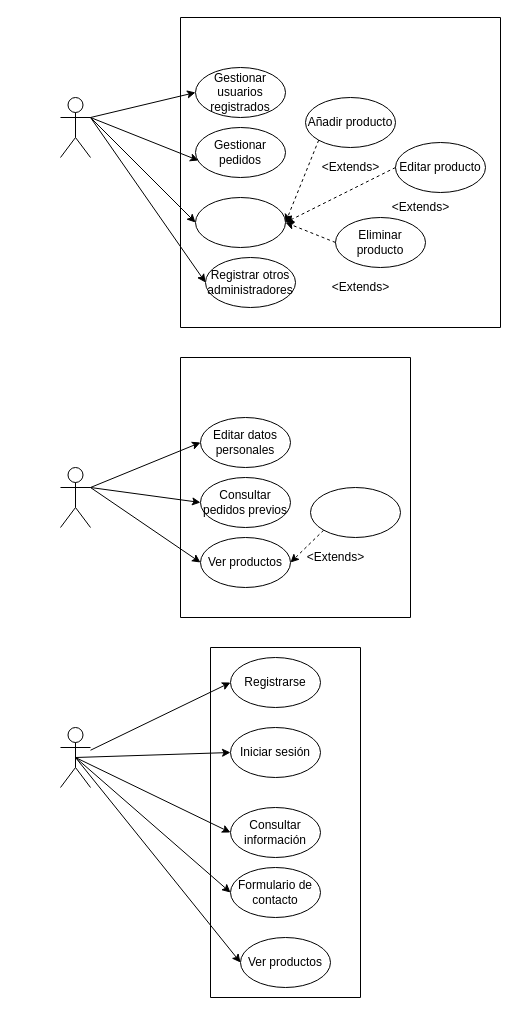
Image size: 518x1015. Some labels were removed from this diagram. The centre of each missing label's shape, as x and y in pixels:
"Comprar productos" goes at pixel 355 512.
"Gestionar productos" goes at pixel 240 222.
"Usuario administrador" goes at pixel 75 127.
"Usuario registrado" goes at pixel 75 497.
"Visitante" goes at pixel 75 757.
